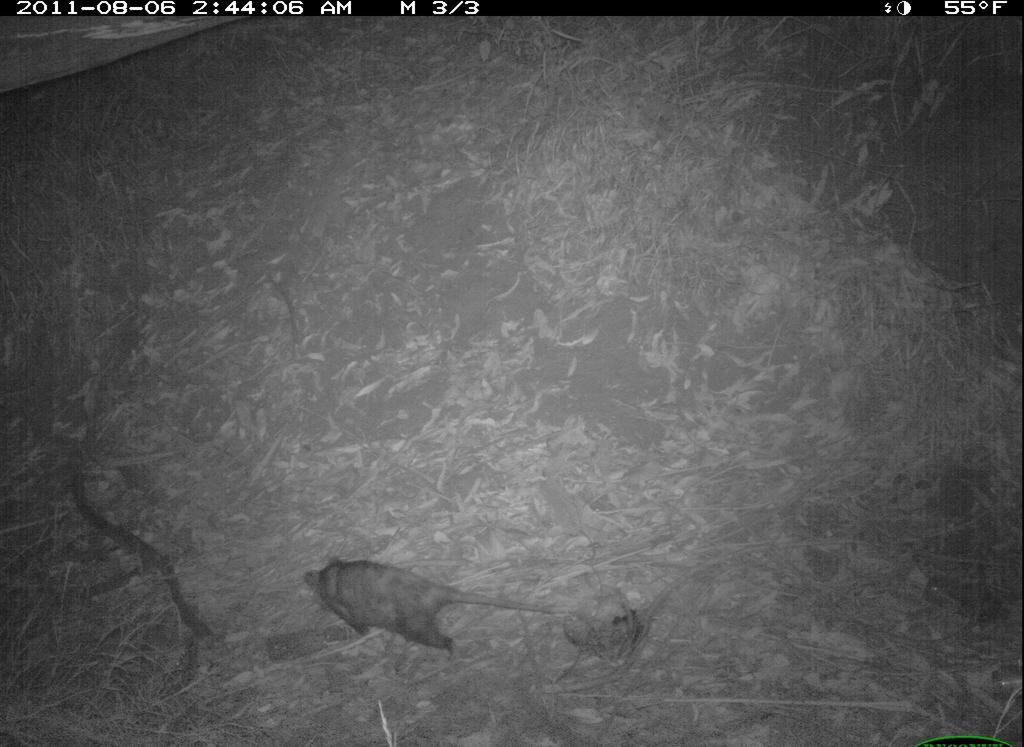opossum: (296, 542, 568, 669)
